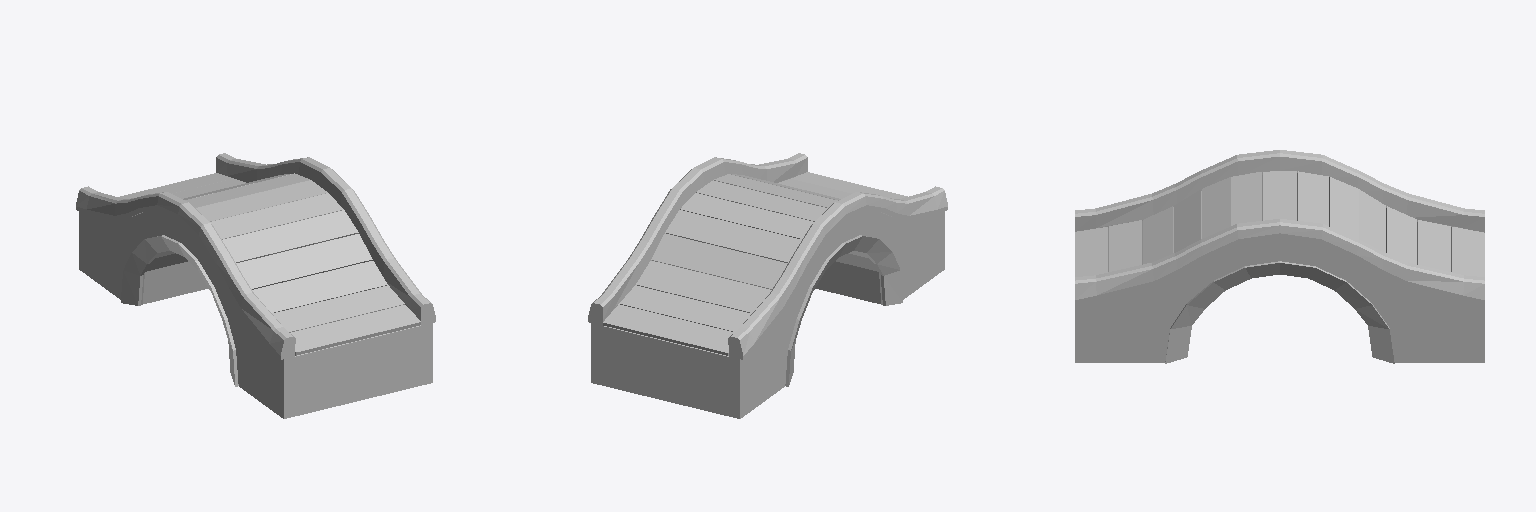
The model's file is Bridge_low.obj.
The picture shows the model from 3 angles: view 1: azimuth 30°, elevation 25°; view 2: azimuth 150°, elevation 25°; view 3: azimuth 270°, elevation 25°; orthographic projection.
Visible parts, largest first — view 1: polySurface54; view 2: polySurface54; view 3: polySurface54.
Part boxes in pixels (x1,y1,x2,y2): polySurface54: (76, 153, 435, 418); polySurface54: (588, 153, 947, 418); polySurface54: (1075, 150, 1484, 363).
Bounding box in the file's own units: 6.66 × 5.72 × 15.17.